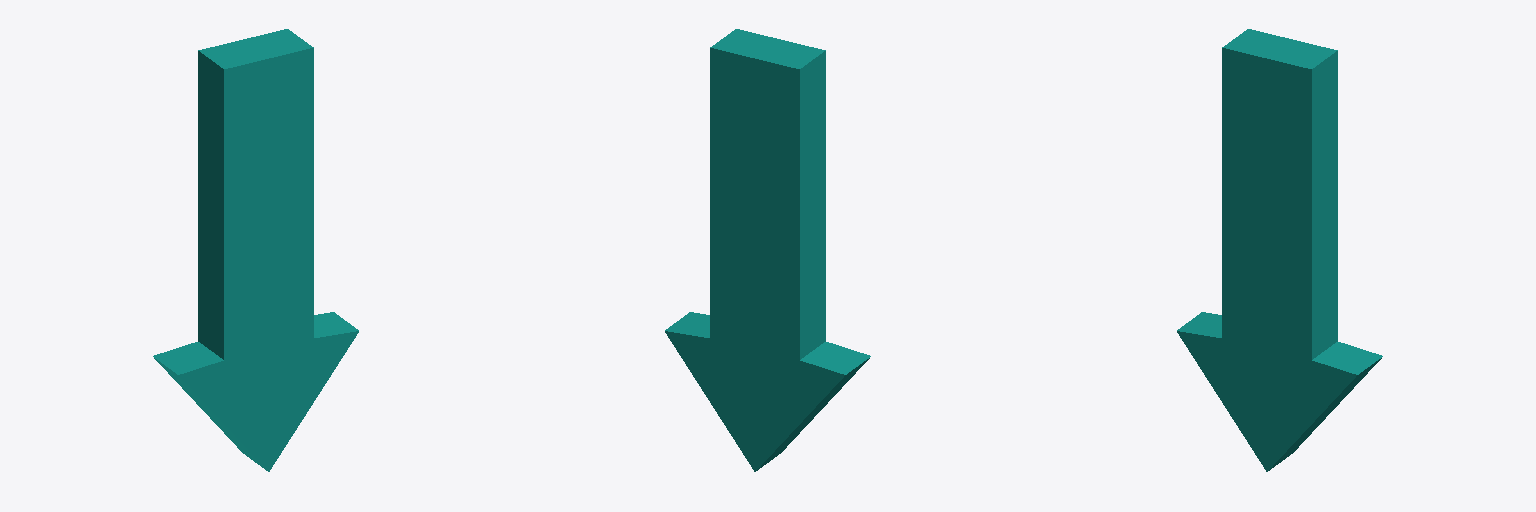
Rendered from teleportPointUp.obj.
The picture shows the model from 3 angles: view 1: azimuth 30°, elevation 25°; view 2: azimuth 150°, elevation 25°; view 3: azimuth 330°, elevation 25°; orthographic projection.
Visible parts, largest first — view 1: Plane; view 2: Plane; view 3: Plane.
Boxes of the visible parts, x1=… form: Plane: x1=153, y1=29, x2=358, y2=471; Plane: x1=665, y1=29, x2=870, y2=471; Plane: x1=1177, y1=29, x2=1382, y2=471.
Bounding box in the file's own units: 0.4577 × 0.9977 × 0.1137.